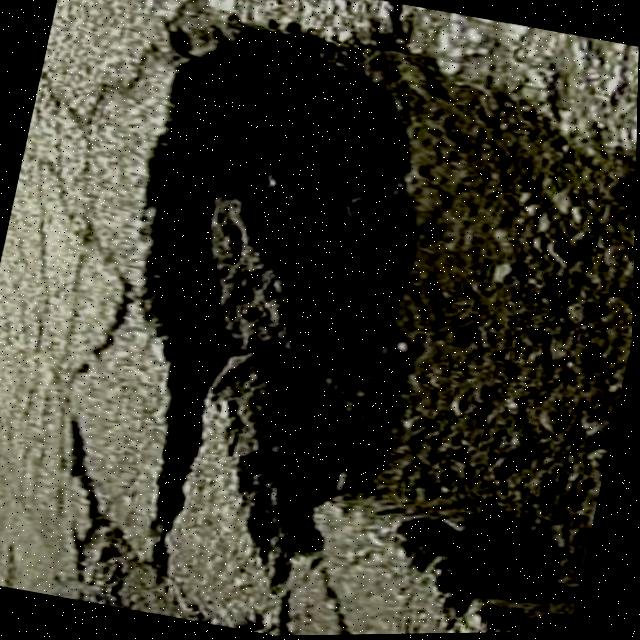Pothole: (36, 0, 640, 639)
